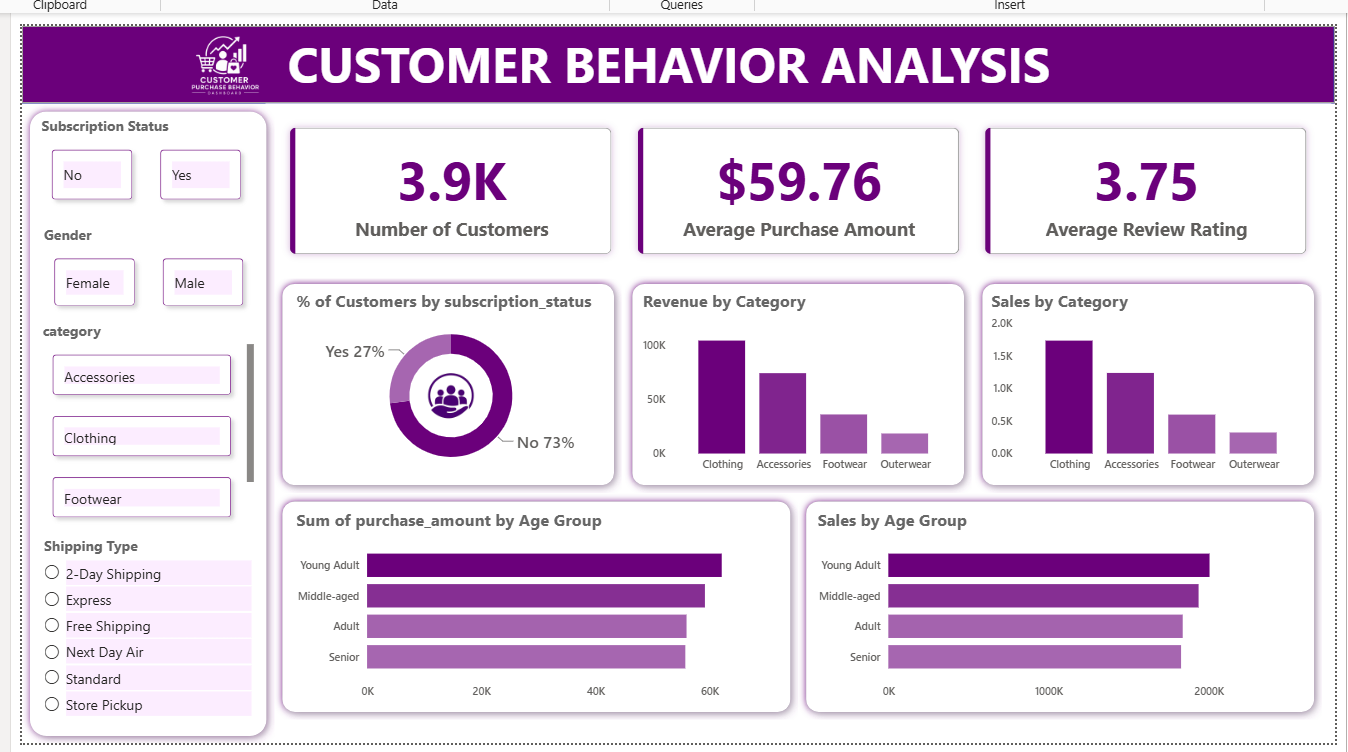

The page's visual inventory and layout, read from the dashboard file:
{"tool":"powerbi","page":{"name":"Page 1","canvas":[1500,820],"ordinal":0},"visuals":[{"type":"shape","box":[0,0,1500,88.4],"z":0},{"type":"cardVisual","fields":{"Data":["customer.Number of Customers","customer.Average Purchase Amount","customer.Average Review Rating"]},"box":[278.3,88.4,1217.4,200],"z":1000},{"type":"textbox","box":[298.6,0,924.6,88.4],"z":2000},{"type":"shape","box":[288.4,285.5,397,248],"z":3000},{"type":"donutChart","title":"% of Customers by subscription_status","fields":{"Category":["customer.subscription_status"],"Y":["CountNonNull(customer.customer_id)"]},"box":[308.7,301.4,363.8,217.4],"z":4000},{"type":"shape","box":[688.4,285.5,397,248],"z":5000},{"type":"shape","box":[1088.4,285.5,397.1,248],"z":6000},{"type":"clusteredColumnChart","title":"Revenue by Category","fields":{"Y":["Sum(customer.purchase_amount)"],"Category":["customer.category"]},"box":[704.3,301.4,366.7,217.4],"z":7000},{"type":"clusteredColumnChart","title":"Sales by Category","fields":{"Category":["customer.category"],"Y":["CountNonNull(customer.customer_id)"]},"box":[1102.9,301.4,366.7,217.4],"z":8000},{"type":"shape","box":[0,88.4,288.4,731.9],"z":9000},{"type":"advancedSlicerVisual","fields":{"Values":["customer.subscription_status"]},"box":[17.4,102.9,250.7,123.2],"z":10000},{"type":"advancedSlicerVisual","fields":{"Values":["customer.gender"]},"box":[20.3,227.5,250.7,123.2],"z":11000},{"type":"shape","box":[288.6,534.3,598.6,272.9],"z":11500},{"type":"advancedSlicerVisual","fields":{"Values":["customer.category"]},"box":[20.3,350.7,250.7,231.9],"z":12000},{"type":"listSlicer","fields":{"Values":["customer.shipping_type"]},"box":[20.3,592.8,247.8,214.5],"z":13000},{"type":"clusteredBarChart","title":"Sum of purchase_amount by Age Group","fields":{"Y":["Sum(customer.purchase_amount)"],"Category":["customer.age_group"]},"box":[308.6,551.4,558.6,241.4],"z":15000},{"type":"shape","box":[887.1,534.3,598.6,272.9],"z":15001},{"type":"clusteredBarChart","title":"Sales by Age Group","fields":{"Category":["customer.age_group"],"Y":["Sum(customer.customer_id)"]},"box":[904.3,551.4,565.7,241.4],"z":15002}]}

Visuals, with their boxes in screenshot pixels (x1, y1, x2, y2):
shape: <region>14, 21, 1343, 99</region>
cardVisual - customer.Number of Customers x customer.Average Purchase Amount: <region>261, 99, 1340, 277</region>
textbox: <region>279, 21, 1098, 99</region>
shape: <region>270, 274, 621, 494</region>
"% of Customers by subscription_status" donutChart: <region>288, 288, 610, 481</region>
shape: <region>624, 274, 976, 494</region>
shape: <region>979, 274, 1331, 494</region>
"Revenue by Category" clusteredColumnChart: <region>638, 288, 963, 481</region>
"Sales by Category" clusteredColumnChart: <region>991, 288, 1316, 481</region>
shape: <region>14, 99, 270, 748</region>
advancedSlicerVisual - customer.subscription_status: <region>29, 112, 252, 221</region>
advancedSlicerVisual - customer.gender: <region>32, 223, 254, 332</region>
shape: <region>270, 495, 800, 736</region>
advancedSlicerVisual - customer.category: <region>32, 332, 254, 537</region>
listSlicer - customer.shipping_type: <region>32, 546, 252, 737</region>
"Sum of purchase_amount by Age Group" clusteredBarChart: <region>288, 510, 783, 724</region>
shape: <region>800, 495, 1331, 736</region>
"Sales by Age Group" clusteredBarChart: <region>815, 510, 1317, 724</region>
